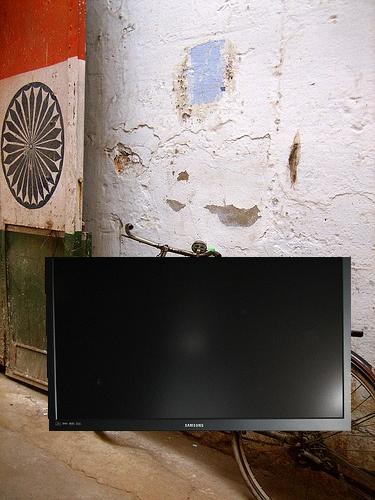tampered: (46, 258, 351, 431)
